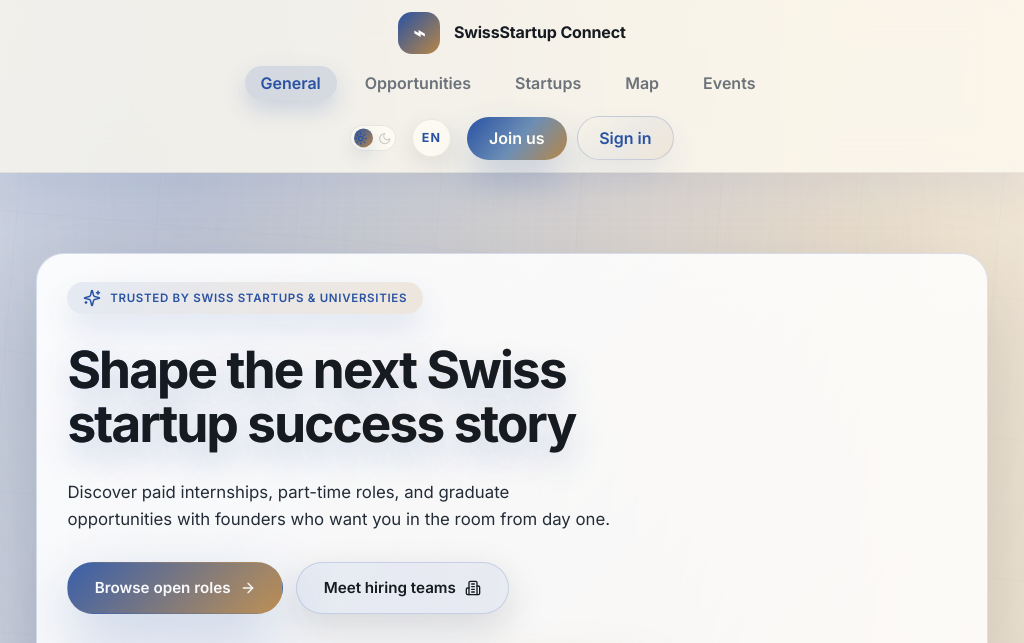
Test: switches hero copy when changing languages
Expected: the heading "Shape the next Swiss startup success story" is shown, x1=67 y1=343 x2=739 y2=451
Click the button "EN" at (431, 138), box x1=412 y1=119 x2=451 y2=157
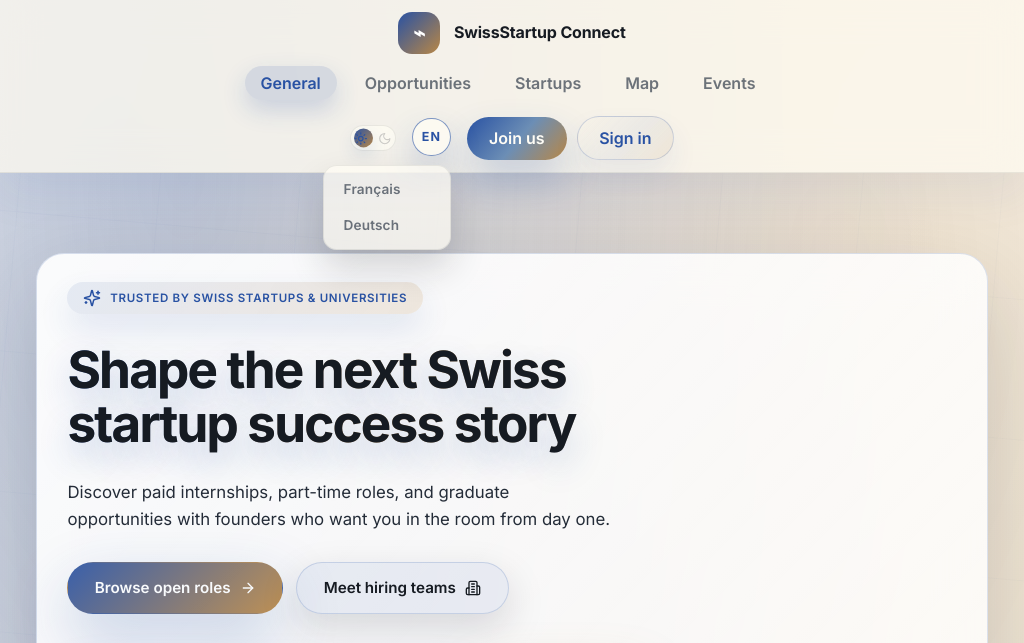
Click the option "Français" at (387, 189), box x1=332 y1=174 x2=442 y2=205
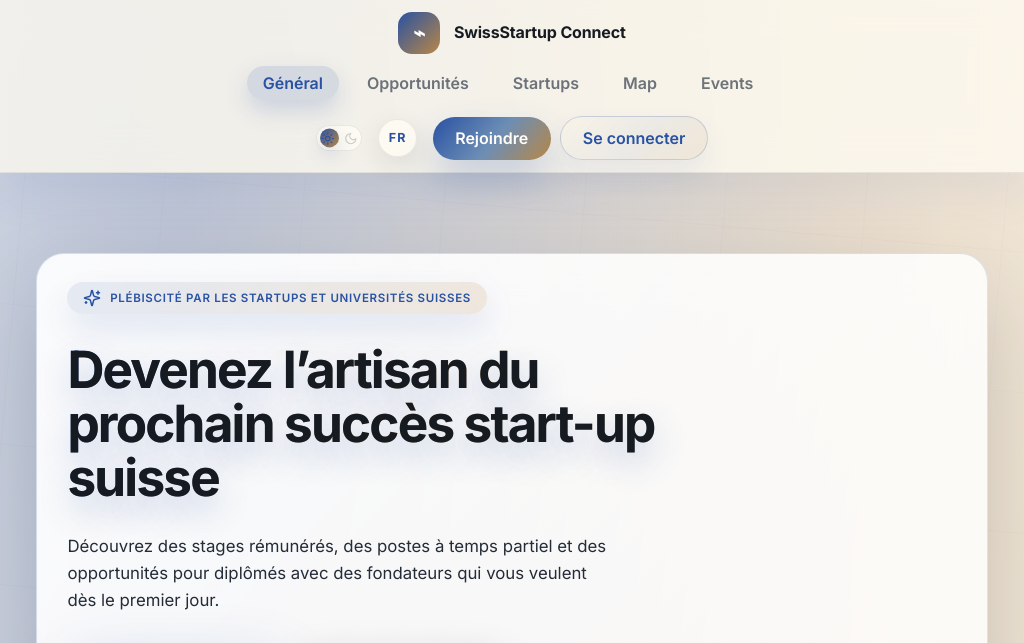
Now the heading "Devenez l’artisan du prochain succès start-up suisse" is shown, box x1=67 y1=343 x2=739 y2=504
